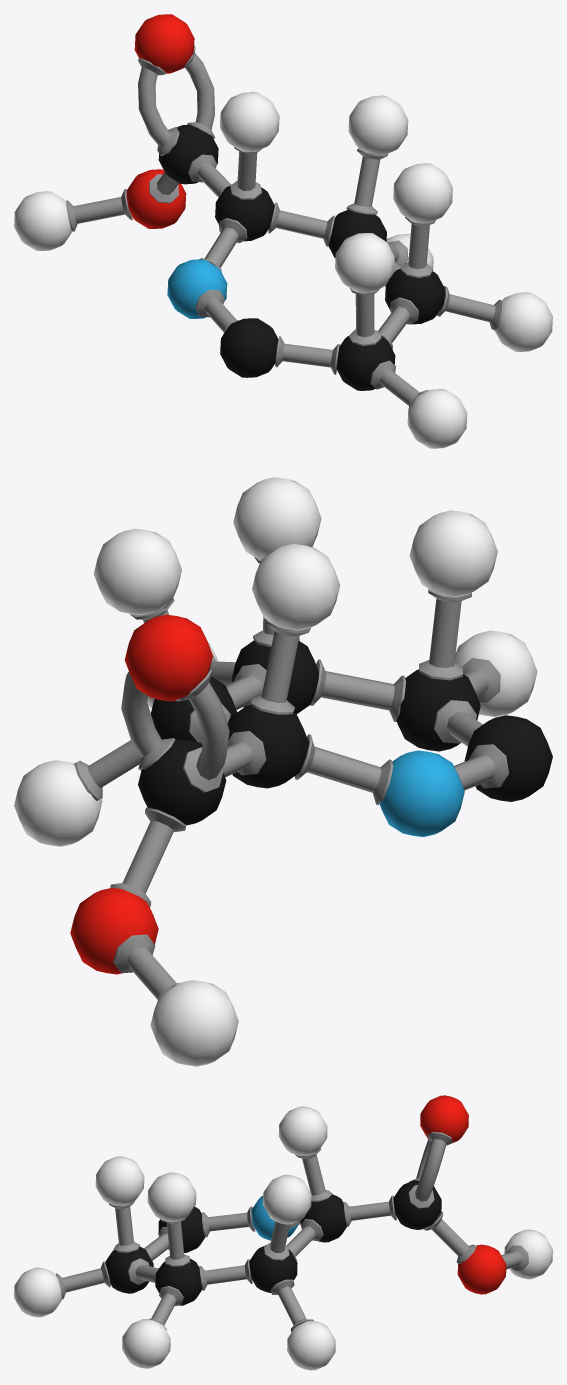
The model's file is SM_Proline_Molecule_LOD0.FBX.
3 renders of one model, top to bottom at view 1: azimuth 30°, elevation 25°; view 2: azimuth 150°, elevation 25°; view 3: azimuth 270°, elevation 25°, orthographic. The views are drawn at different scales.
Visible parts, largest first — view 1: SM_Proline_Molecule; view 2: SM_Proline_Molecule; view 3: SM_Proline_Molecule.
Part boxes in pixels (box(x1,y1,x2,y2)): SM_Proline_Molecule: box(14, 14, 552, 448); SM_Proline_Molecule: box(14, 477, 552, 1066); SM_Proline_Molecule: box(14, 1095, 552, 1370).
Bounding box in the file's own units: 0.1716 × 0.1365 × 0.3227.
Materials: 1 (1 with a texture image).
